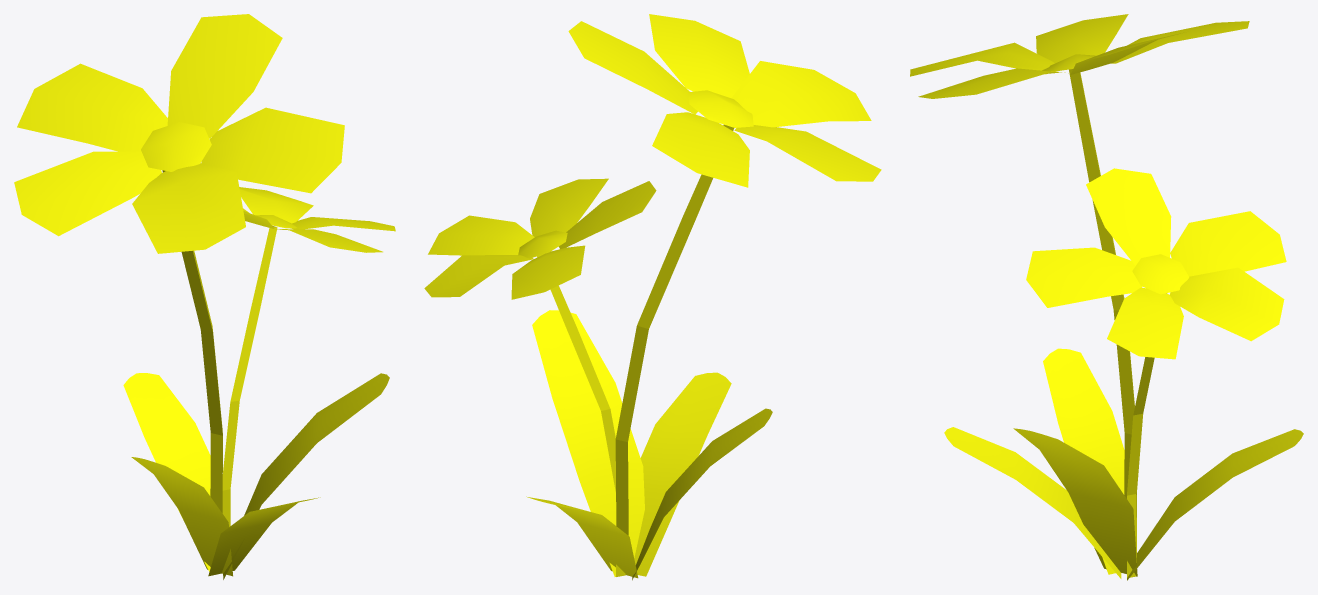
The model's file is FlowerStalk_1.fbx.
The picture shows the model from 3 angles, left to right: view 1: azimuth 30°, elevation 25°; view 2: azimuth 150°, elevation 25°; view 3: azimuth 270°, elevation 25°; orthographic projection. The views are drawn at different scales.
Visible parts, largest first — view 1: FlowerStalk_1; view 2: FlowerStalk_1; view 3: FlowerStalk_1.
Part boxes in pixels (box(x1,y1,x2,y2)): FlowerStalk_1: box(14, 14, 395, 579); FlowerStalk_1: box(424, 14, 881, 580); FlowerStalk_1: box(910, 14, 1303, 580).
Bounding box in the file's own units: 137 × 176 × 113.
